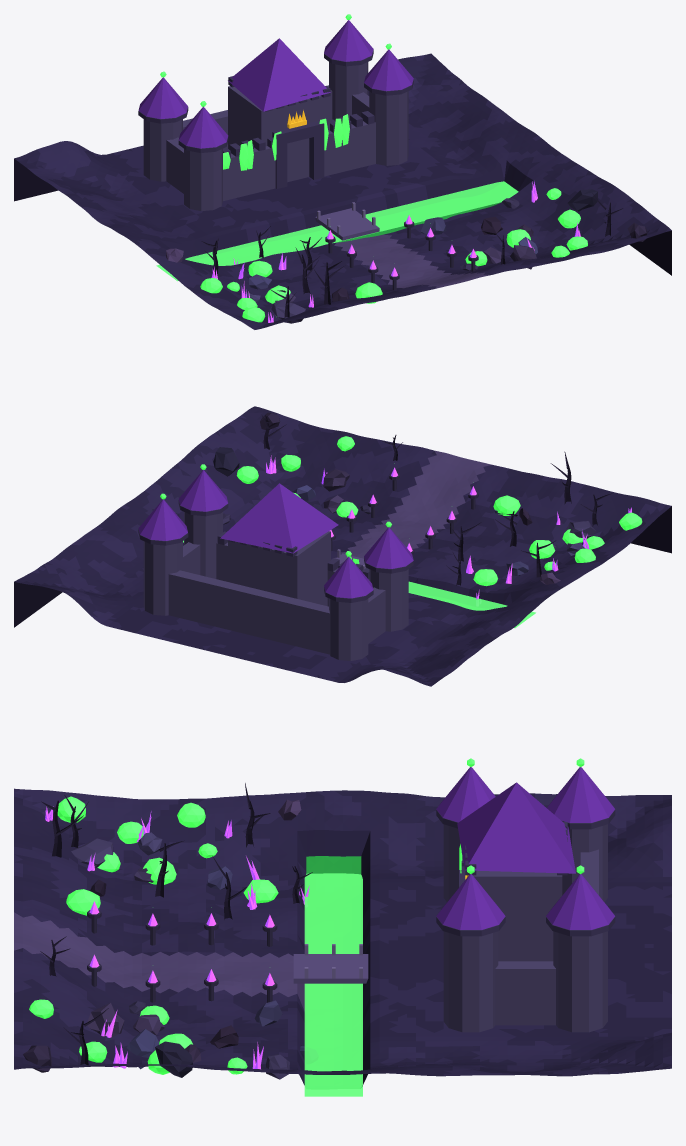
Rendered from loc_slime_kingdom.glb.
The picture shows the model from 3 angles, top to bottom: view 1: azimuth 30°, elevation 25°; view 2: azimuth 150°, elevation 25°; view 3: azimuth 270°, elevation 25°; orthographic projection. The views are drawn at different scales.
Visible parts, largest first — view 1: Terrain, Props_Env, MoatSlime, Props_SlimeGlow, Props_BraizerFire; view 2: Terrain, Props_Env, Props_SlimeGlow, MoatSlime, Props_BraizerFire; view 3: Terrain, Props_Env, MoatSlime, Props_SlimeGlow, Props_BraizerFire.
Boxes of the visible parts, box(x1,y1,x2,y2) form: Terrain: box(14, 53, 671, 329); Props_Env: box(138, 20, 647, 323); MoatSlime: box(156, 181, 518, 281); Props_SlimeGlow: box(160, 14, 587, 322); Props_BraizerFire: box(211, 181, 580, 322); Terrain: box(14, 406, 671, 686); Props_Env: box(138, 412, 611, 660); Props_SlimeGlow: box(160, 436, 642, 586); MoatSlime: box(183, 540, 535, 628); Props_BraizerFire: box(266, 455, 631, 599); Terrain: box(14, 788, 671, 1088); Props_Env: box(23, 767, 615, 1079); MoatSlime: box(304, 873, 362, 1096); Props_SlimeGlow: box(29, 758, 584, 1074); Props_BraizerFire: box(45, 806, 309, 1069).
Bounding box in the file's own units: 36 × 13.49 × 36.
